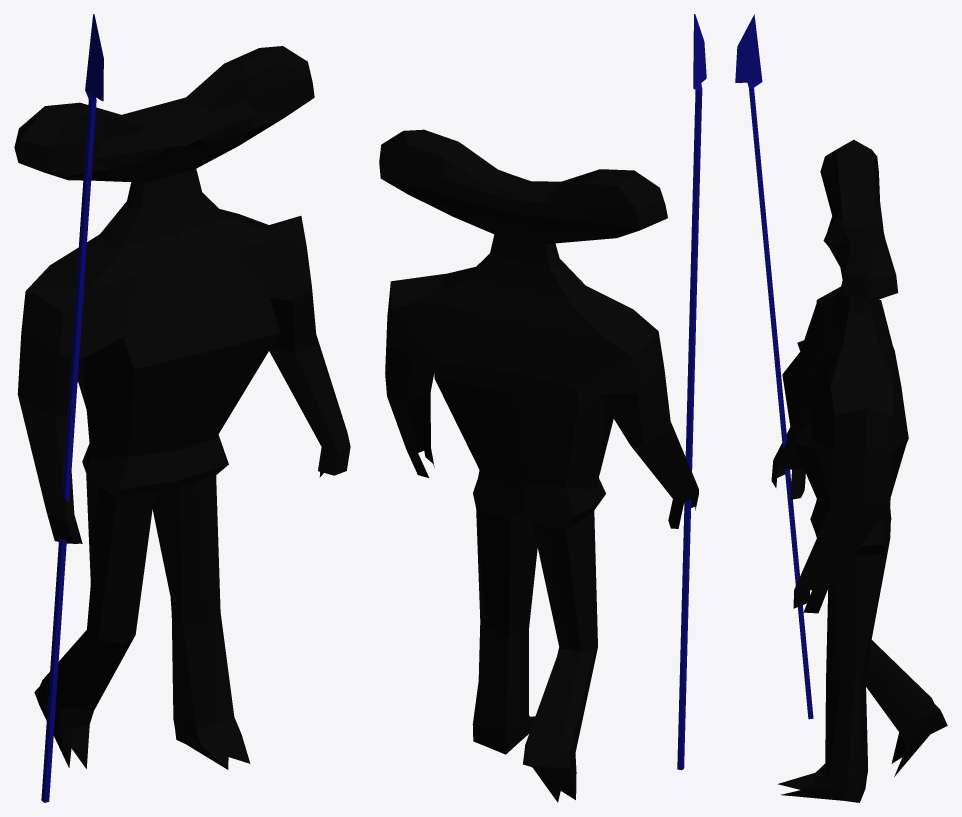
The model's file is Spearman2w.obj.
The picture shows the model from 3 angles, left to right: view 1: azimuth 30°, elevation 25°; view 2: azimuth 150°, elevation 25°; view 3: azimuth 270°, elevation 25°; orthographic projection. The views are drawn at different scales.
Parts seen in each view (by area): view 1: Cube; view 2: Cube; view 3: Cube.
Part boxes in pixels (x1,y1,x2,y2): Cube: (14, 14, 350, 802); Cube: (379, 14, 706, 802); Cube: (735, 14, 947, 802).
Size of the model in its own units: 0.7278 by 1.85 by 0.487.
